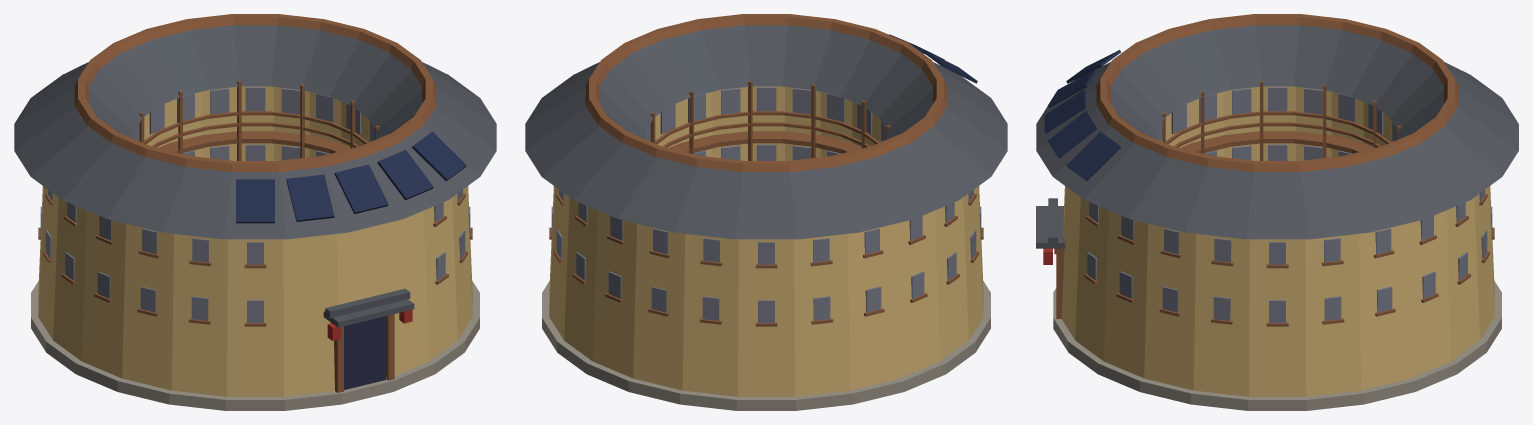
File: house-2x2-3f-tulou-a-solar.glb
3 views of the same model, side by side, from view 1: azimuth 30°, elevation 25°; view 2: azimuth 150°, elevation 25°; view 3: azimuth 270°, elevation 25° (orthographic).
Parts seen in each view (by area): view 1: house-2x2-3f-tulou-a-solar; view 2: house-2x2-3f-tulou-a-solar; view 3: house-2x2-3f-tulou-a-solar.
Part boxes in pixels (left/top/right/bottom): house-2x2-3f-tulou-a-solar: left=14, top=14, right=496, bottom=410; house-2x2-3f-tulou-a-solar: left=525, top=14, right=1007, bottom=410; house-2x2-3f-tulou-a-solar: left=1036, top=14, right=1518, bottom=410.
Size of the model in its own units: 1.98 by 1.03 by 1.98.
Materials: 1 (1 with a texture image).
